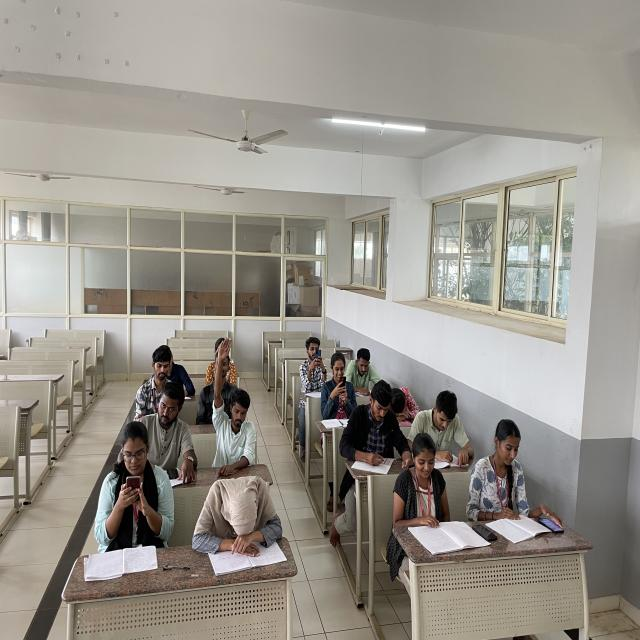Hand Rising: (214, 338, 258, 468)
Reading: (471, 414, 541, 542), (399, 429, 468, 554), (410, 388, 474, 471), (350, 345, 381, 403)
Sleeping: (196, 472, 282, 560), (388, 384, 423, 426)
Using Phone: (100, 420, 170, 541), (324, 351, 354, 418), (298, 335, 330, 392)
Writing: (348, 378, 398, 472)
